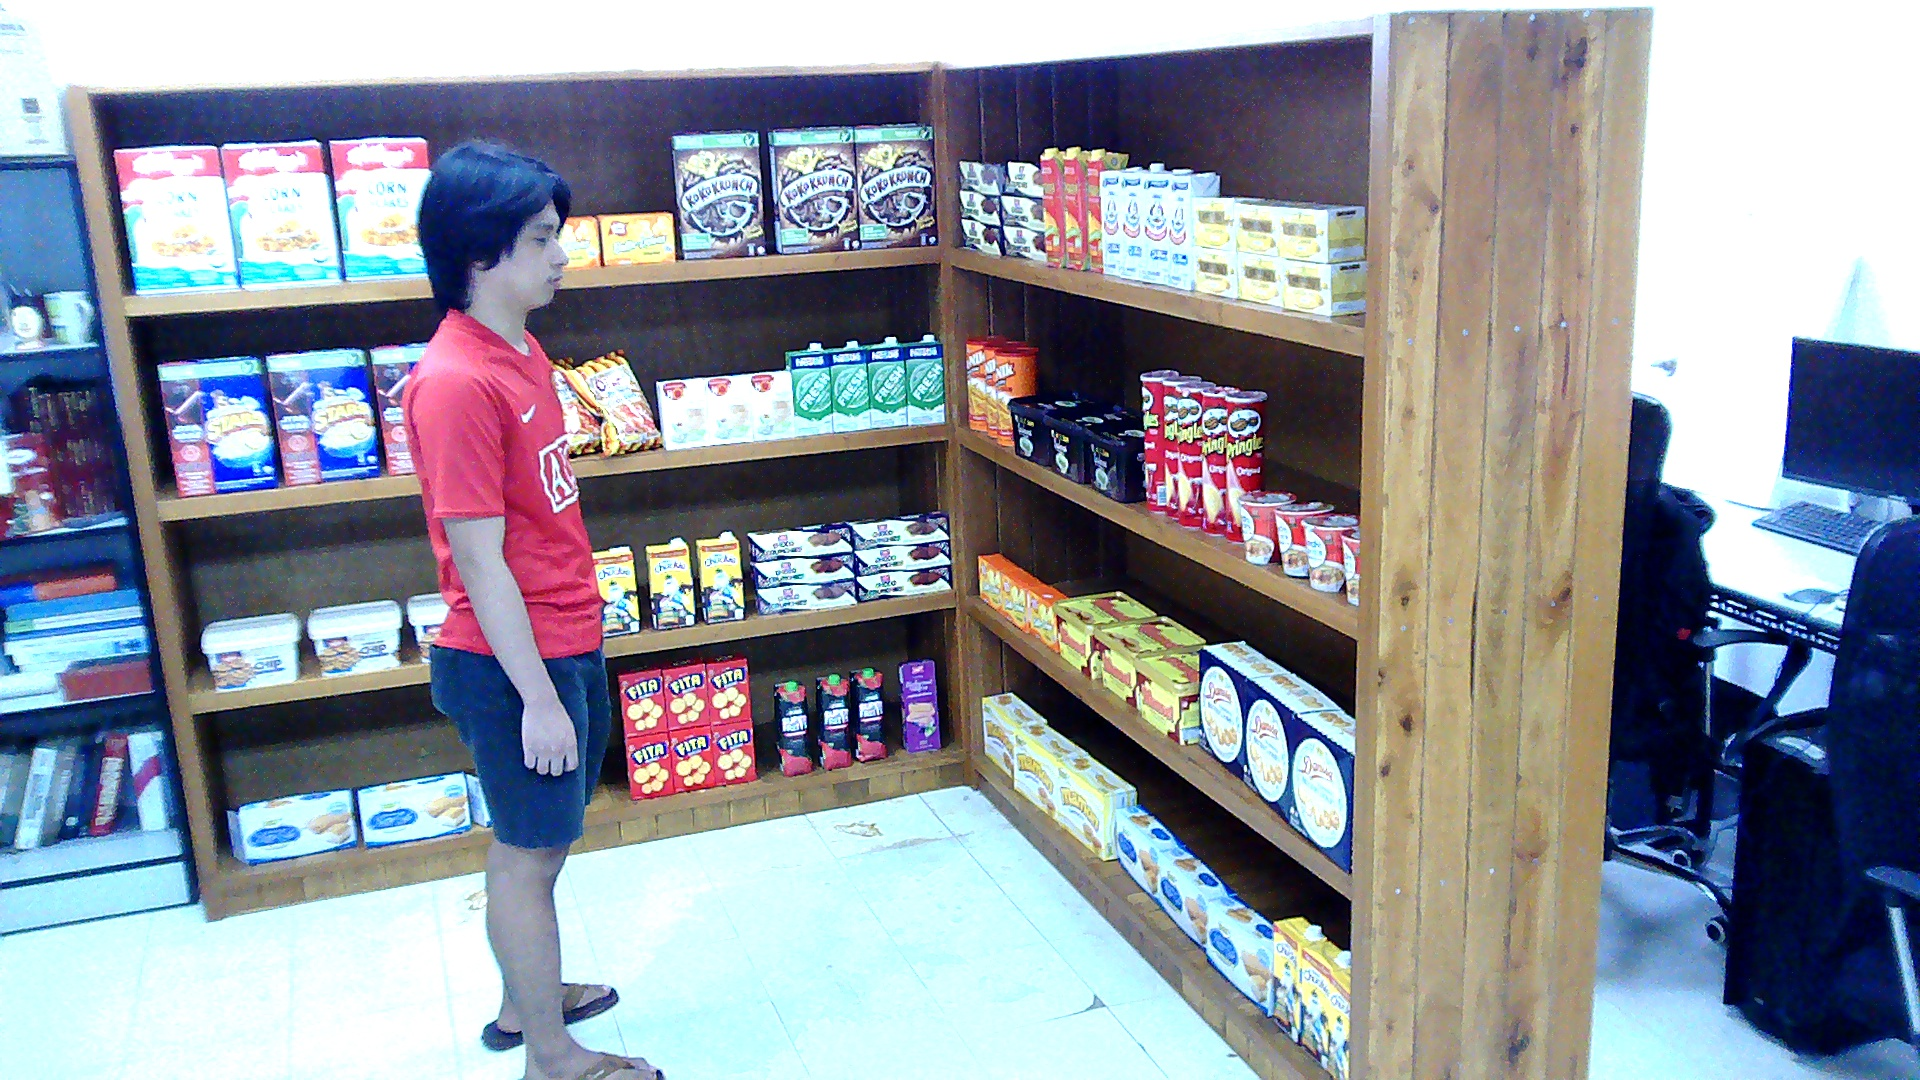Bear brand: (1164, 171, 1218, 290), (1140, 168, 1194, 283), (1122, 162, 1167, 279), (1098, 167, 1143, 275)
Buttercake: (225, 788, 357, 864), (354, 772, 468, 848), (1155, 844, 1233, 952), (1206, 893, 1272, 1017), (1112, 803, 1181, 900), (465, 769, 492, 828)
Butterlicious: (597, 209, 675, 265), (1026, 585, 1068, 653), (998, 569, 1043, 630), (978, 551, 1020, 612), (554, 216, 599, 268)
Camomille: (1281, 259, 1365, 315), (1280, 202, 1361, 261), (1236, 198, 1314, 254), (1194, 196, 1263, 248), (1236, 250, 1278, 304), (1194, 243, 1236, 297)
Choco Crunchies: (746, 522, 851, 560), (753, 578, 855, 616), (846, 511, 948, 549), (750, 551, 855, 587), (855, 565, 951, 603), (855, 540, 951, 576), (960, 218, 1002, 254), (956, 160, 1001, 194), (1001, 160, 1040, 196), (957, 189, 999, 223), (998, 195, 1043, 227), (1002, 225, 1044, 259)
Chocolate Chips: (198, 611, 300, 690), (303, 599, 399, 675), (405, 592, 447, 662)
Chuckie: (1272, 916, 1326, 1044), (1299, 941, 1350, 1071), (645, 536, 693, 628), (591, 547, 639, 637), (696, 531, 744, 623), (1326, 964, 1350, 1077)
Danisa: (1242, 672, 1338, 823), (1197, 641, 1287, 778), (1287, 709, 1353, 873)
Fita: (615, 662, 666, 736), (699, 650, 750, 722), (657, 657, 708, 729), (624, 731, 672, 801), (668, 724, 713, 792), (710, 720, 755, 785)
Fresh Milk: (782, 342, 827, 432), (828, 340, 870, 432), (864, 337, 906, 425), (903, 333, 942, 425)
Grahams: (1041, 398, 1140, 484), (1005, 389, 1104, 465), (1079, 414, 1142, 504)
Hansel: (1092, 614, 1206, 706), (1050, 589, 1155, 679), (1130, 643, 1199, 744)
Head: (393, 130, 585, 326)
Honey Stars: (156, 353, 276, 497), (264, 348, 381, 485), (369, 341, 429, 474)
Kellogg Corn Flakes: (114, 144, 240, 292), (219, 140, 342, 288), (327, 137, 429, 279)
Kimchi Noodles: (1271, 500, 1334, 576), (1299, 512, 1359, 591), (1236, 491, 1296, 565), (1338, 524, 1359, 605)
Koko Krunch: (669, 129, 765, 259), (768, 124, 858, 254), (854, 121, 935, 247)
Locally Mango: (1086, 148, 1128, 272), (1037, 146, 1064, 268), (1061, 144, 1088, 270)
Mamon: (1056, 752, 1137, 862), (1011, 720, 1083, 819), (981, 691, 1047, 779)
Oishi Prawn: (558, 346, 660, 459), (549, 355, 600, 456)
Pik-nik: (981, 337, 1029, 438), (996, 344, 1038, 445), (966, 333, 1008, 432)
Pringles: (1224, 389, 1266, 542), (1173, 380, 1215, 528), (1199, 384, 1238, 535), (1161, 374, 1200, 520), (1139, 369, 1178, 511)
Super Fruits: (771, 677, 813, 776), (849, 665, 885, 762), (813, 672, 849, 769)
Wafer: (897, 657, 939, 751)
iHop: (654, 378, 708, 448), (702, 373, 750, 443), (747, 369, 789, 439)
